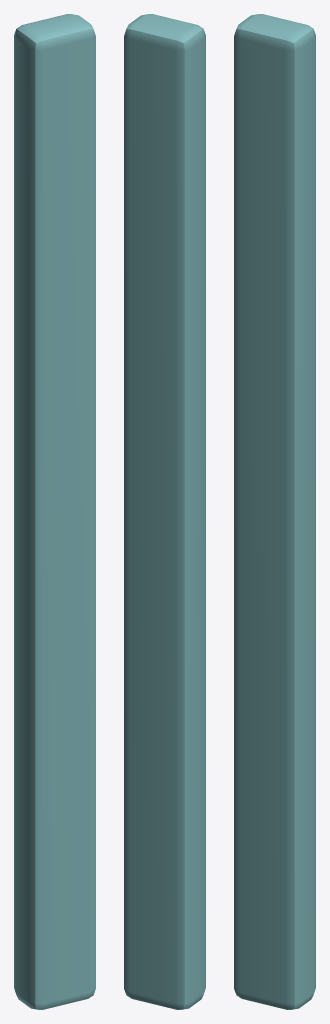
The model's file is BigHand.fbx.
The picture shows the model from 3 angles, left to right: view 1: azimuth 30°, elevation 25°; view 2: azimuth 150°, elevation 25°; view 3: azimuth 330°, elevation 25°; orthographic projection.
Parts seen in each view (by area): view 1: pCube1; view 2: pCube1; view 3: pCube1.
Boxes of the visible parts, x1,y1,x2,y2 form: pCube1: (14,14,95,1009); pCube1: (124,14,205,1009); pCube1: (234,14,315,1009).
Size of the model in its own units: 0.0437 by 0.6108 by 0.0282.
